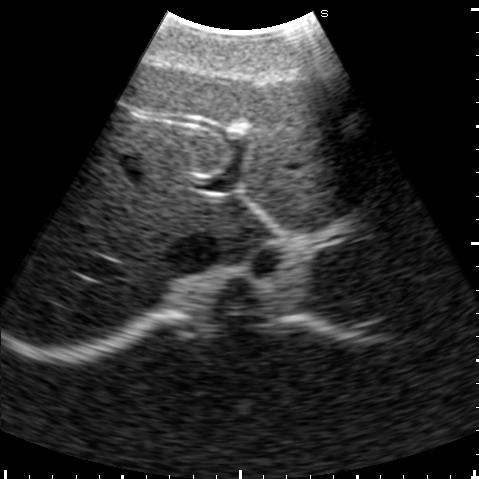IVC: (166, 230, 224, 273)
S1: (214, 198, 275, 263)
S2: (241, 158, 407, 232)
S3: (238, 68, 395, 194)
Tumor: (342, 116, 360, 135)
